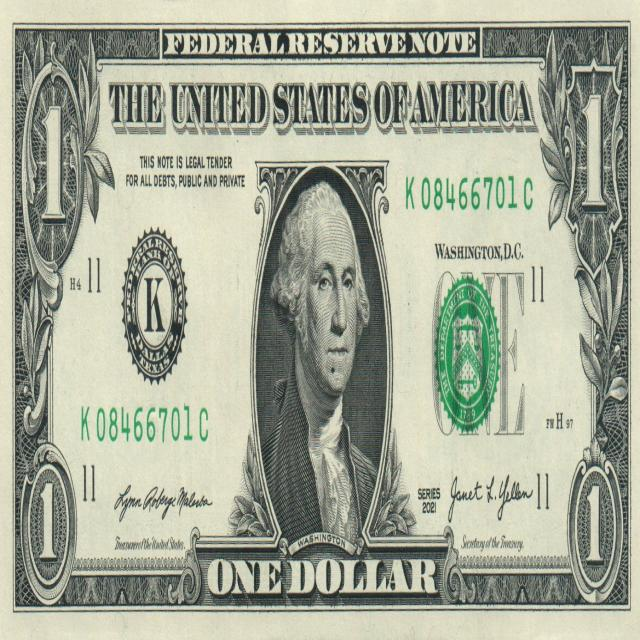SerialNumber: (406, 176, 533, 211), (82, 405, 193, 441)
